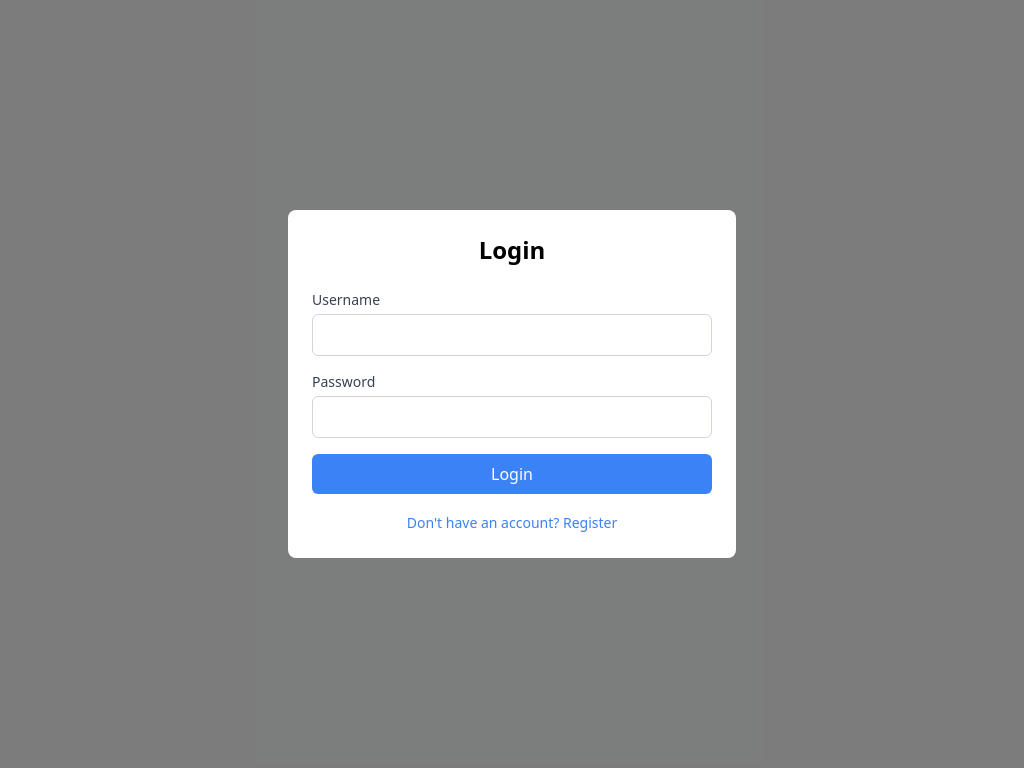
Test: AuthModal › shows error message from thrown error (plain)
Type "user3" into the field labelled "Username" at (512, 335), box 312,314 -> 712,356
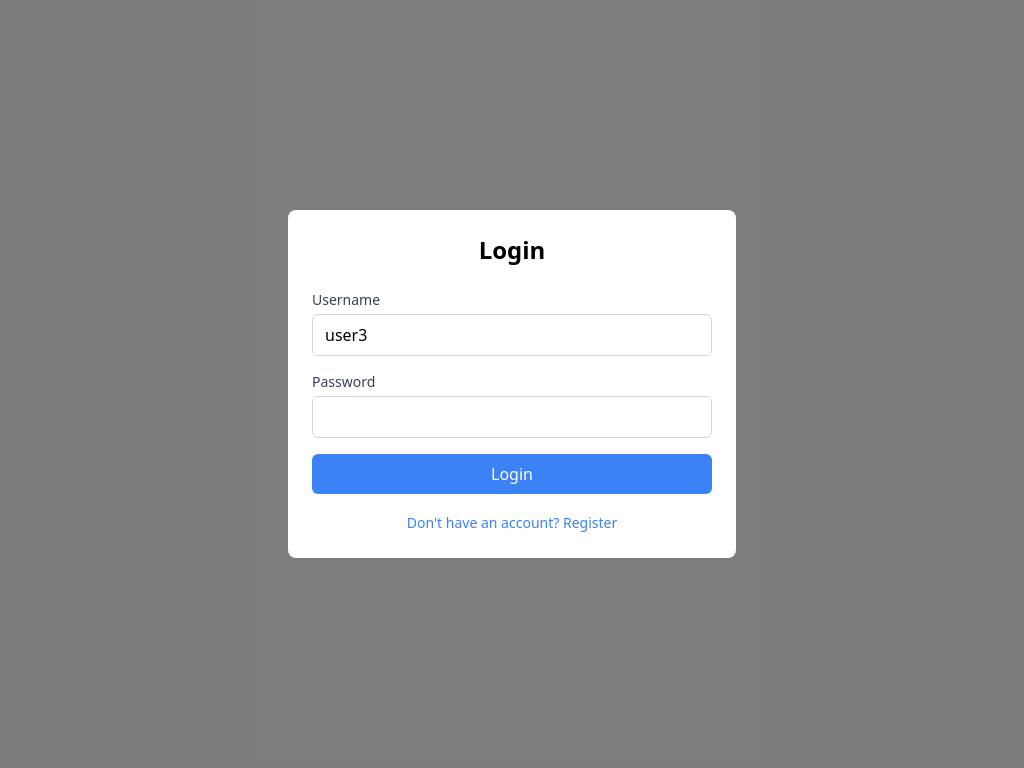
Type "pass3" into the password field labelled "Password" at (512, 417), box 312,396 -> 712,438
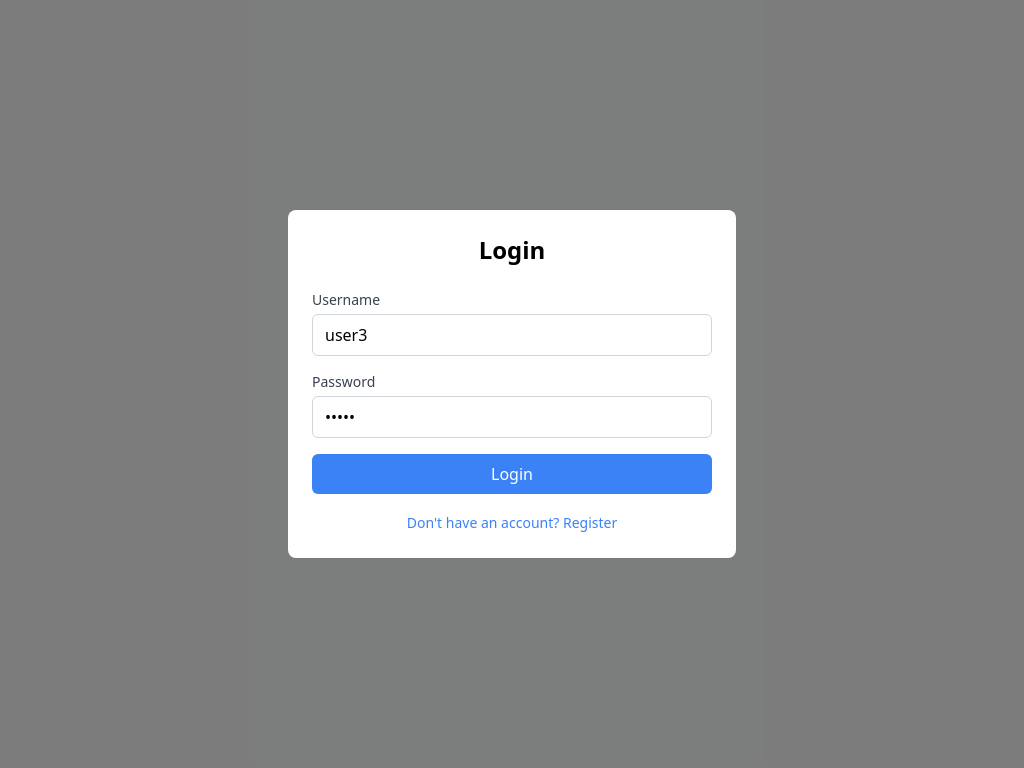
Click the button "Login" at (512, 474), box 312,454 -> 712,494
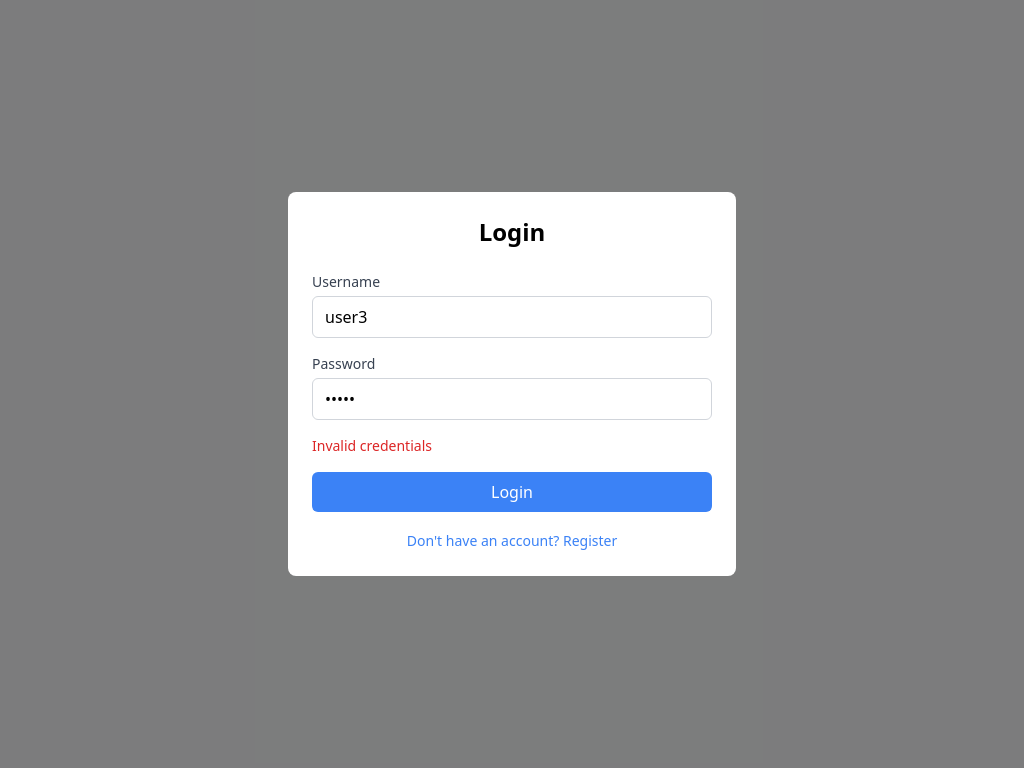
Check: the text "Invalid credentials" is shown, box 312,436 -> 432,455
